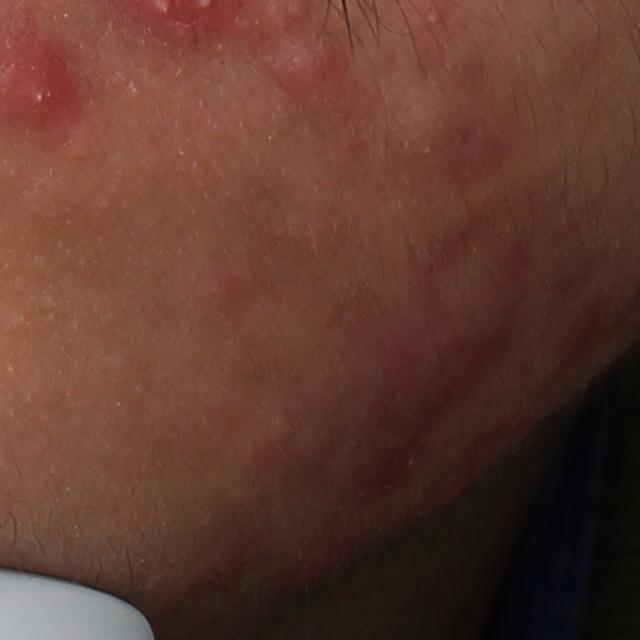hypertrophic_scar: (385, 69, 462, 157)
nodule: (336, 279, 526, 511)
papule: (259, 40, 344, 100), (196, 260, 257, 330)
